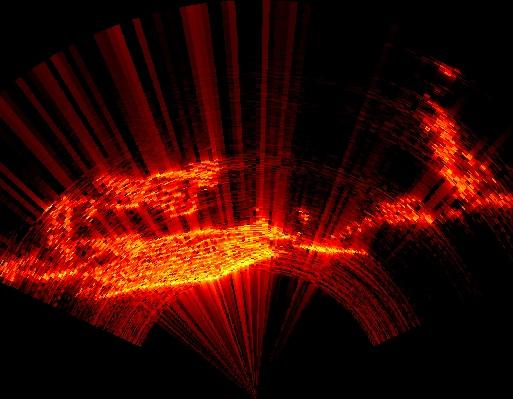shipwreck: (2, 96, 499, 295)
